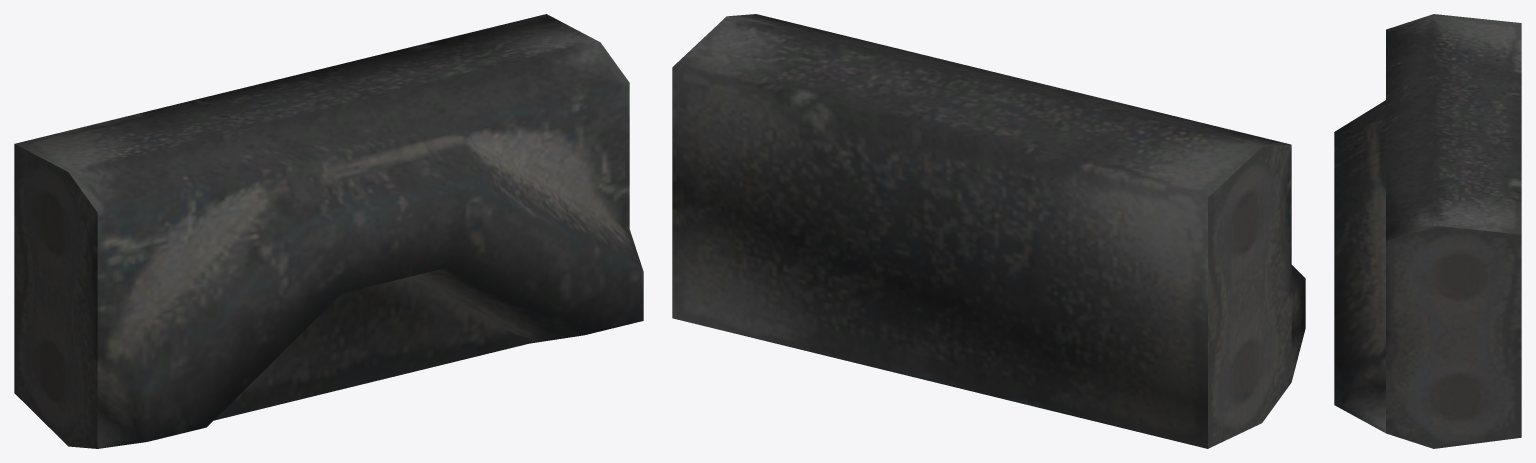
The picture shows the model from 3 angles, left to right: view 1: azimuth 30°, elevation 25°; view 2: azimuth 150°, elevation 25°; view 3: azimuth 270°, elevation 25°; orthographic projection. The views are drawn at different scales.
Parts seen in each view (by area): view 1: set_0_group_0; view 2: set_0_group_0; view 3: set_0_group_0.
Part boxes in pixels (x1,y1,x2,y2): set_0_group_0: (14, 14, 643, 448); set_0_group_0: (672, 14, 1305, 448); set_0_group_0: (1334, 14, 1521, 448).
Size of the model in its own units: 0.327 by 0.1611 by 0.1226.
1 material, 1 textured.
